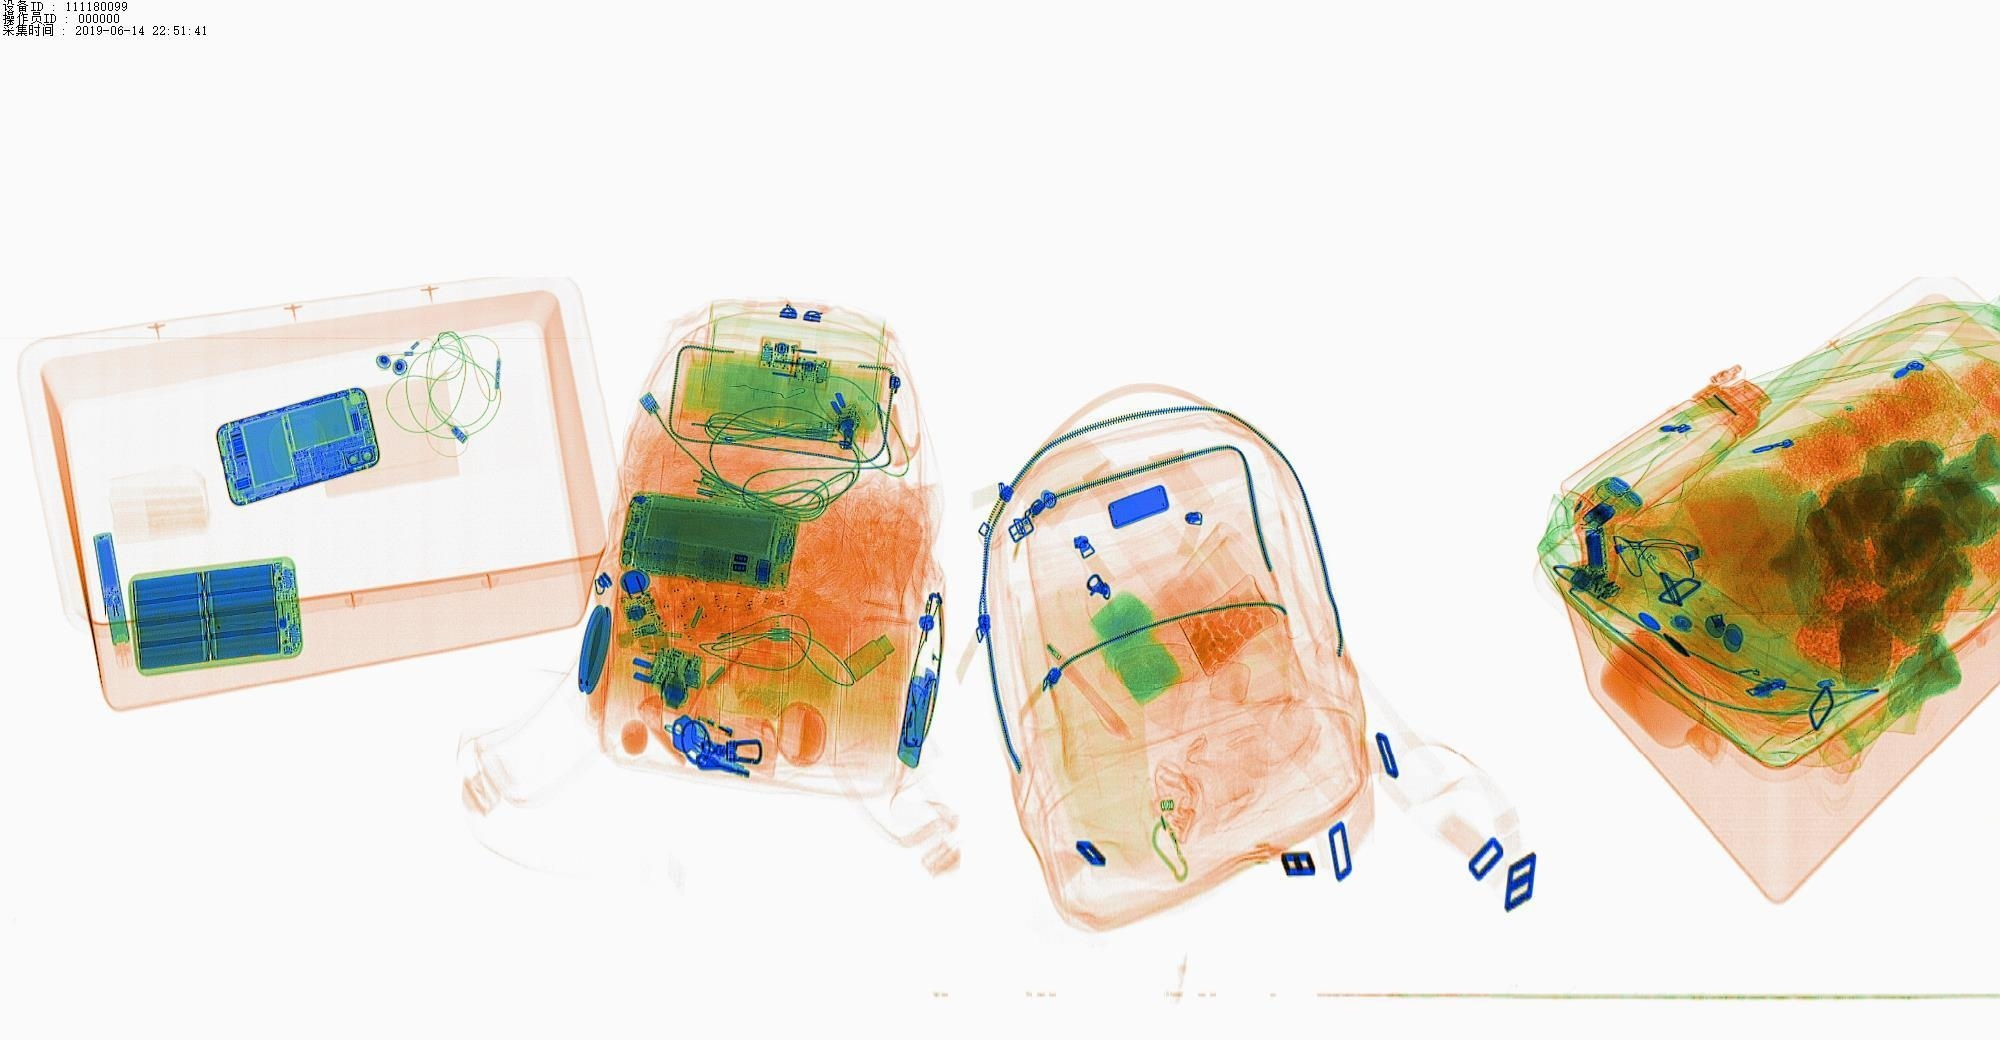NonmetallicFire: (673, 704, 784, 771)
